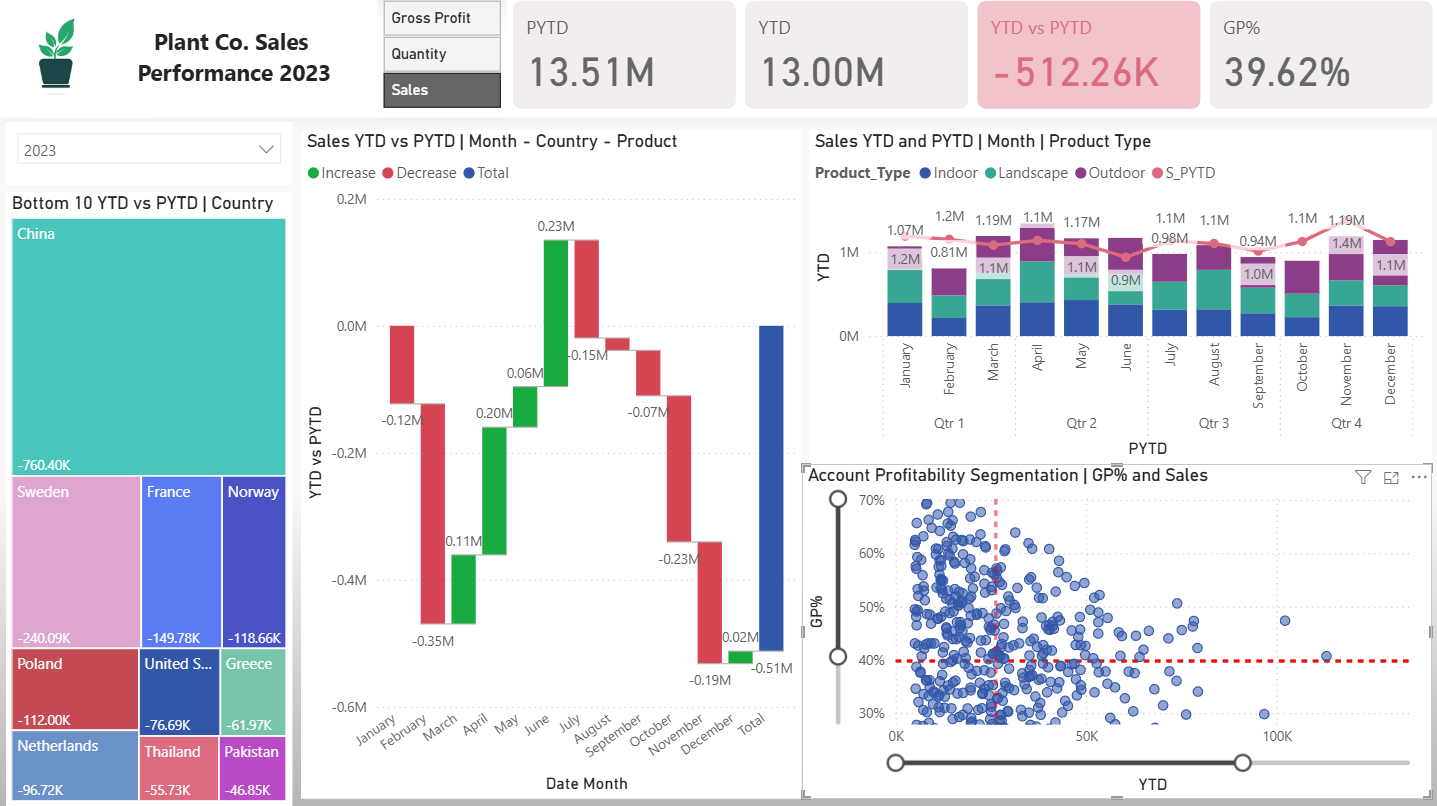

What the dashboard file says about the page in this screenshot:
{"tool":"powerbi","page":{"name":"Performance Report","canvas":[1280,720],"ordinal":0},"visuals":[{"type":"cardVisual","fields":{"Data":["_Measures.S_PYTD","_Measures.S_YTD","_Measures.YTD vs PYTD","_Measures.GP%"]},"box":[451.3,0,829.1,106.4],"z":0},{"type":"advancedSlicerVisual","fields":{"Values":["Slc_Values.Values "]},"box":[336.9,0,114.4,106.4],"z":1000},{"type":"slicer","fields":{"Values":["Dim_Date.Date.Variation.Date Hierarchy.Year"]},"box":[7.1,112.6,253.6,55.9],"z":2000},{"type":"treemap","title":"Bottom 10 YTD vs PYTD | Country","fields":{"Values":["_Measures.YTD vs PYTD"],"Group":["Dim_Accounts.country"]},"box":[7.1,174.7,253.6,545.3],"z":3000},{"type":"waterfallChart","fields":{"Y":["_Measures.YTD vs PYTD"],"Category":["Dim_Date.Date.Variation.Date Hierarchy.Month","Dim_Accounts.country","DIm_Product.Product_Type","DIm_Product.Product_Name"]},"box":[268.4,119.6,444.5,593.3],"z":4000},{"type":"lineStackedColumnComboChart","fields":{"Y":["_Measures.S_YTD"],"Y2":["_Measures.S_PYTD"],"Category":["Dim_Date.Date.Variation.Date Hierarchy.Quarter","Dim_Date.Date.Variation.Date Hierarchy.Month"],"Series":["DIm_Product.Product_Type"]},"box":[719.1,119.7,552.4,296.2],"z":5000},{"type":"scatterChart","fields":{"Y":["_Measures.GP%"],"X":["_Measures.S_YTD"],"Category":["Dim_Accounts.Account"]},"box":[713.2,416.2,558.1,297.1],"z":6000},{"type":"card","fields":{"Values":["_Measures._Report title"]},"box":[82.7,0,253.9,106],"z":6001},{"type":"image","box":[0,0,104.6,106.4],"z":6002}]}

Visuals, with their boxes in screenshot pixels (x1, y1, x2, y2), scaled from the page's 1280x720 canvas onto the 1437x806 screenshot:
cardVisual - _Measures.S_PYTD x _Measures.S_YTD: BBox(507, 0, 1436, 119)
advancedSlicerVisual - Slc_Values.Values : BBox(378, 0, 507, 119)
slicer - Dim_Date.Date.Variation.Date Hierarchy.Year: BBox(8, 126, 293, 189)
"Bottom 10 YTD vs PYTD | Country" treemap: BBox(8, 196, 293, 805)
waterfallChart - _Measures.YTD vs PYTD x Dim_Date.Date.Variation.Date Hierarchy.Month: BBox(301, 134, 800, 798)
lineStackedColumnComboChart - _Measures.S_YTD x _Measures.S_PYTD: BBox(807, 134, 1427, 466)
scatterChart - _Measures.GP% x _Measures.S_YTD: BBox(801, 466, 1427, 798)
card - _Measures._Report title: BBox(93, 0, 378, 119)
image: BBox(0, 0, 117, 119)
